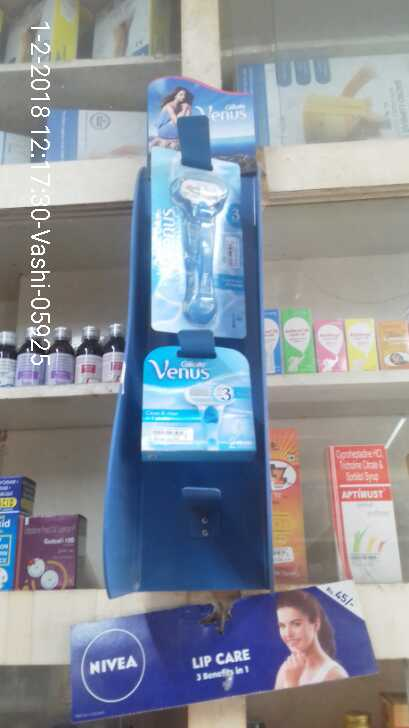beauty: (147, 146, 243, 336), (138, 345, 249, 457)
